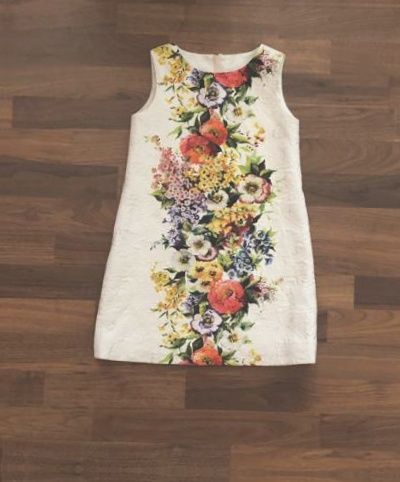Dress: (57, 24, 367, 400)
